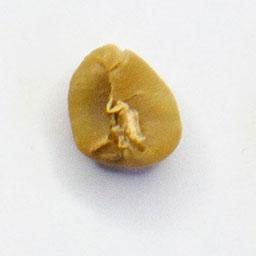defect: (65, 41, 185, 172)
